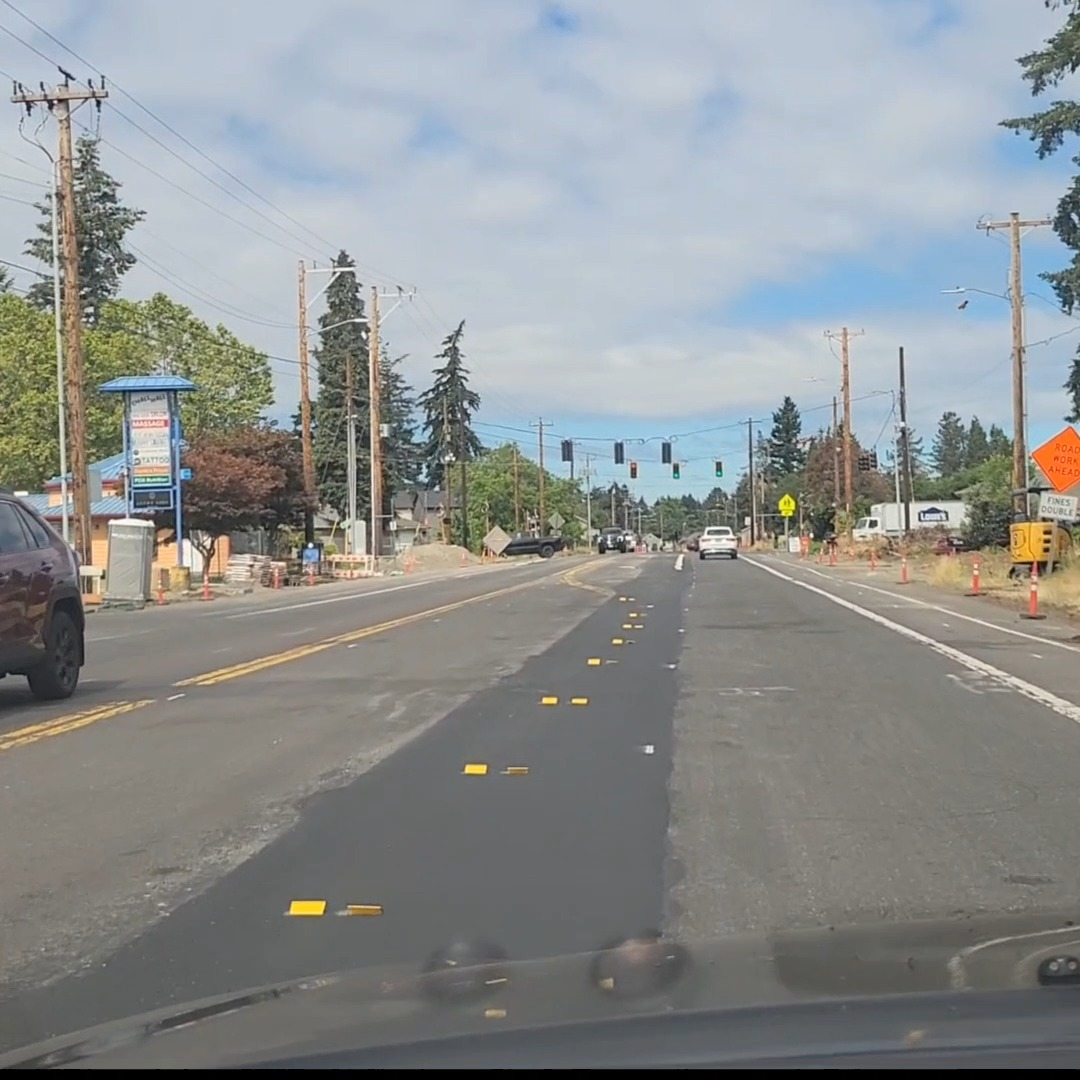car: (0, 486, 84, 701), (696, 526, 738, 560), (598, 527, 636, 552)
crosswalk-sign: (777, 494, 795, 515)
delineator: (1019, 565, 1046, 618), (963, 558, 986, 596), (896, 553, 910, 583), (200, 569, 212, 599), (155, 577, 167, 605), (868, 545, 878, 571), (305, 564, 316, 585), (272, 565, 281, 589), (828, 542, 837, 565), (816, 542, 824, 563), (480, 549, 491, 563), (459, 550, 468, 566), (847, 544, 856, 560), (946, 543, 956, 556)
